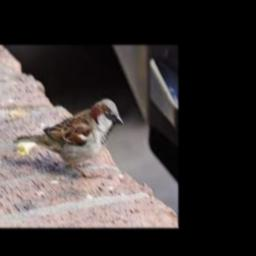Sparrow: (13, 98, 124, 177)
